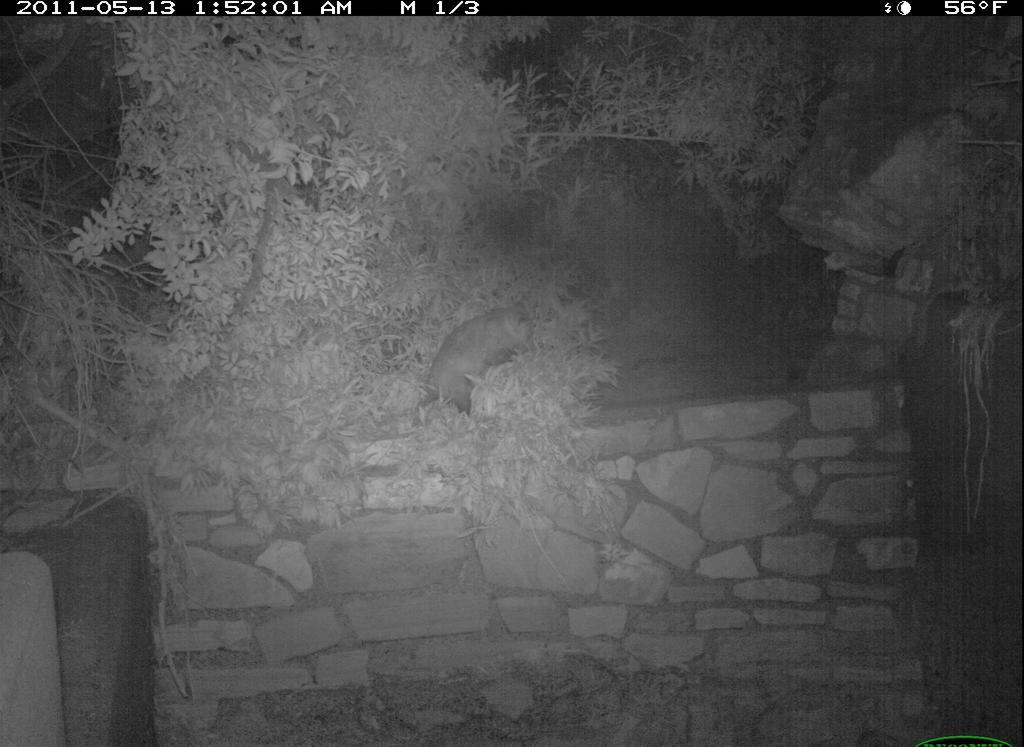opossum: (406, 300, 548, 429)
